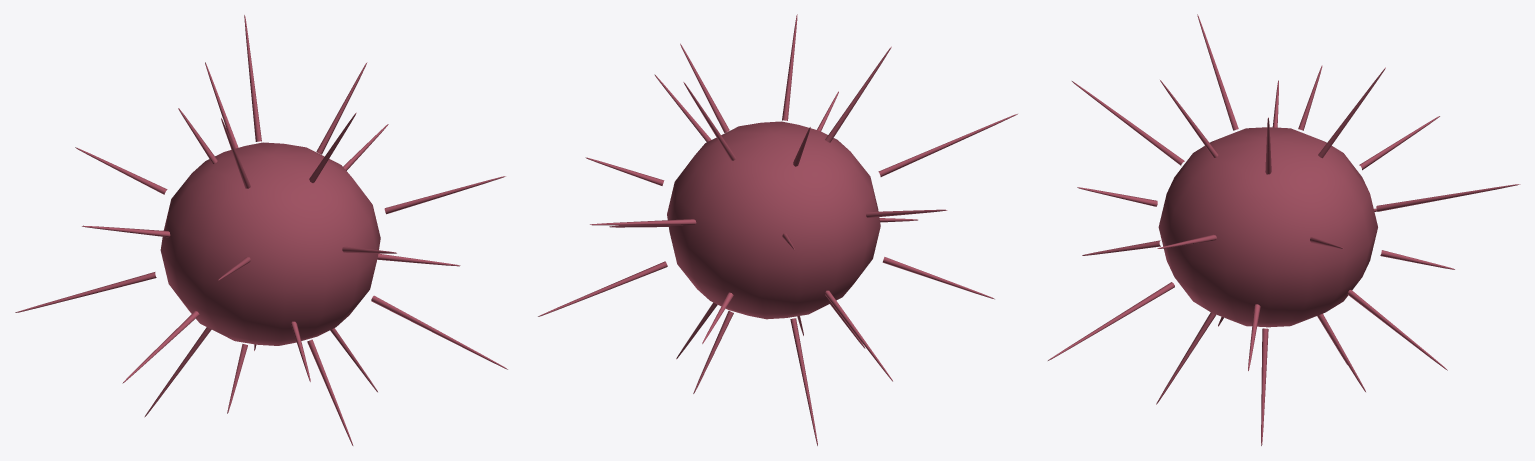
Rendered from red_urchin.glb.
The picture shows the model from 3 angles, left to right: view 1: azimuth 30°, elevation 25°; view 2: azimuth 150°, elevation 25°; view 3: azimuth 270°, elevation 25°; orthographic projection. The views are drawn at different scales.
Parts seen in each view (by area): view 1: red_urchin; view 2: red_urchin; view 3: red_urchin.
Boxes of the visible parts, x1,y1,x2,y2 form: red_urchin: [15, 15, 507, 445]; red_urchin: [538, 14, 1017, 445]; red_urchin: [1048, 14, 1520, 445].
Bounding box in the file's own units: 0.2503 × 0.2335 × 0.2811.
